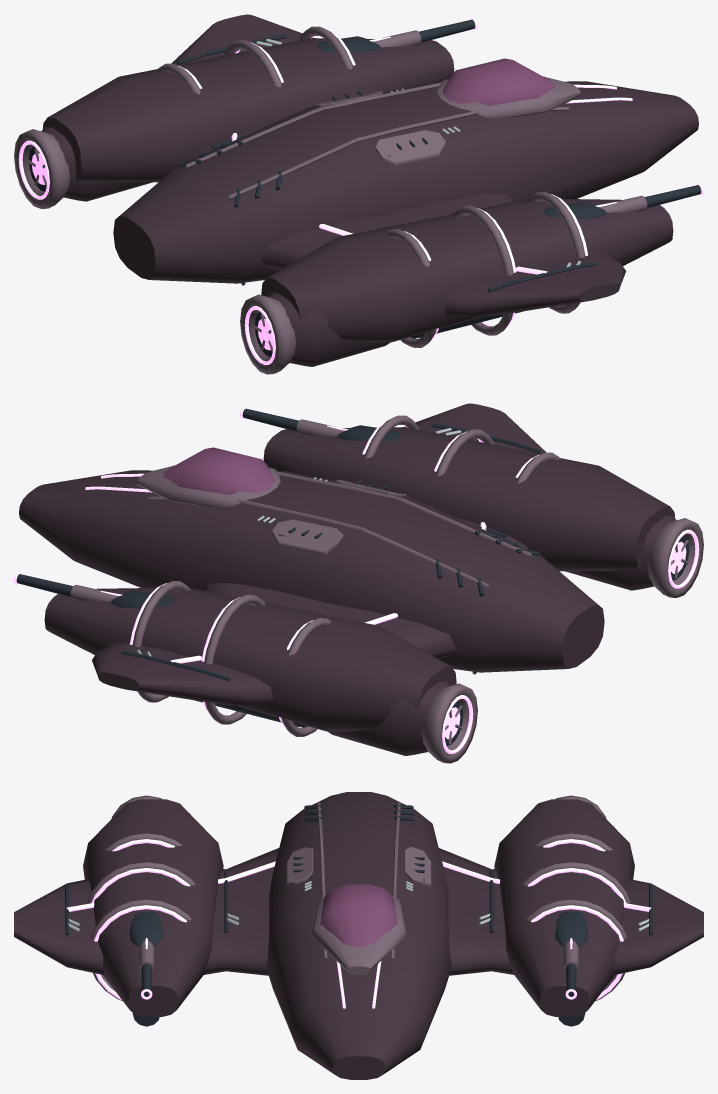
File: echo.glb
3 views of the same model, one above another, from view 1: azimuth 30°, elevation 25°; view 2: azimuth 150°, elevation 25°; view 3: azimuth 270°, elevation 25° (orthographic). The views are drawn at different scales.
Parts seen in each view (by area): view 1: hull Hull paint, wing Hull paint, hull Brushed panel alloy, engine Brushed panel alloy, hull Smoked canopy, mount Graphite heat armour, engine Hull guidance, hull Hull guidance, mount Brushed panel alloy, hull Graphite heat armour, wing Graphite heat armour; view 2: hull Hull paint, wing Hull paint, hull Brushed panel alloy, engine Brushed panel alloy, hull Smoked canopy, mount Graphite heat armour, engine Hull guidance, hull Hull guidance, mount Brushed panel alloy, hull Graphite heat armour, wing Graphite heat armour; view 3: hull Hull paint, wing Hull paint, hull Brushed panel alloy, hull Smoked canopy, hull Hull guidance, mount Graphite heat armour, hull Graphite heat armour, wing Graphite heat armour, wing Hull guidance, mount Brushed panel alloy.
Boxes of the visible parts, x1=… form: hull Hull paint: x1=41, y1=38, x2=698, y2=366; wing Hull paint: x1=171, y1=14, x2=626, y2=316; hull Brushed panel alloy: x1=157, y1=26, x2=585, y2=347; engine Brushed panel alloy: x1=14, y1=129, x2=296, y2=374; hull Smoked canopy: x1=442, y1=58, x2=555, y2=105; mount Graphite heat armour: x1=316, y1=19, x2=701, y2=218; engine Hull guidance: x1=18, y1=140, x2=275, y2=364; hull Hull guidance: x1=178, y1=28, x2=632, y2=339; mount Brushed panel alloy: x1=373, y1=30, x2=647, y2=212; hull Graphite heat armour: x1=178, y1=91, x2=522, y2=338; wing Graphite heat armour: x1=177, y1=34, x2=596, y2=292; hull Hull paint: x1=19, y1=427, x2=676, y2=755; wing Hull paint: x1=91, y1=403, x2=546, y2=705; hull Brushed panel alloy: x1=132, y1=415, x2=560, y2=736; engine Brushed panel alloy: x1=421, y1=518, x2=703, y2=763; hull Smoked canopy: x1=162, y1=447, x2=274, y2=494; mount Graphite heat armour: x1=16, y1=408, x2=401, y2=607; engine Hull guidance: x1=442, y1=529, x2=699, y2=753; hull Hull guidance: x1=85, y1=417, x2=539, y2=728; mount Brushed panel alloy: x1=70, y1=419, x2=344, y2=601; hull Graphite heat armour: x1=195, y1=480, x2=539, y2=727; wing Graphite heat armour: x1=121, y1=423, x2=540, y2=681; hull Hull paint: x1=83, y1=792, x2=634, y2=1079; wing Hull paint: x1=14, y1=848, x2=703, y2=975; hull Brushed panel alloy: x1=87, y1=803, x2=630, y2=1000; hull Smoked canopy: x1=320, y1=884, x2=397, y2=946; hull Hull guidance: x1=91, y1=839, x2=626, y2=1008; mount Graphite heat armour: x1=129, y1=911, x2=588, y2=996; hull Graphite heat armour: x1=132, y1=804, x2=585, y2=1026; wing Graphite heat armour: x1=65, y1=870, x2=652, y2=935; wing Hull guidance: x1=66, y1=861, x2=651, y2=911; mount Brushed panel alloy: x1=139, y1=941, x2=578, y2=971.
Size of the model in its own units: 45 by 11.57 by 52.
